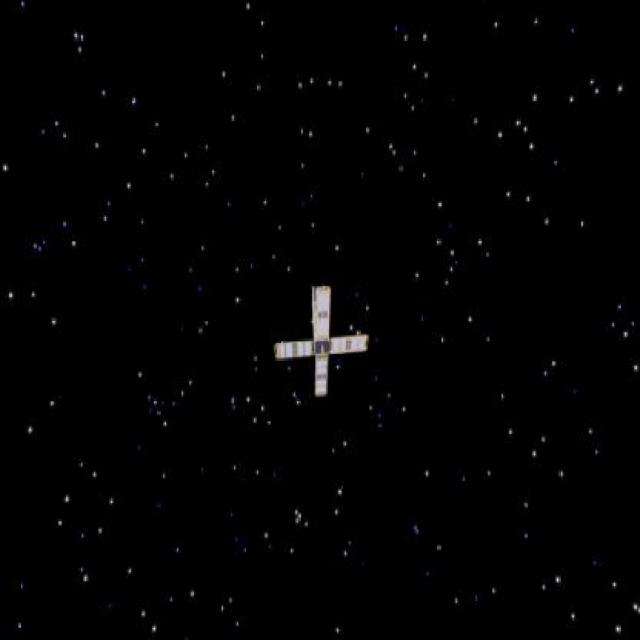satellite: (273, 273, 377, 404)
